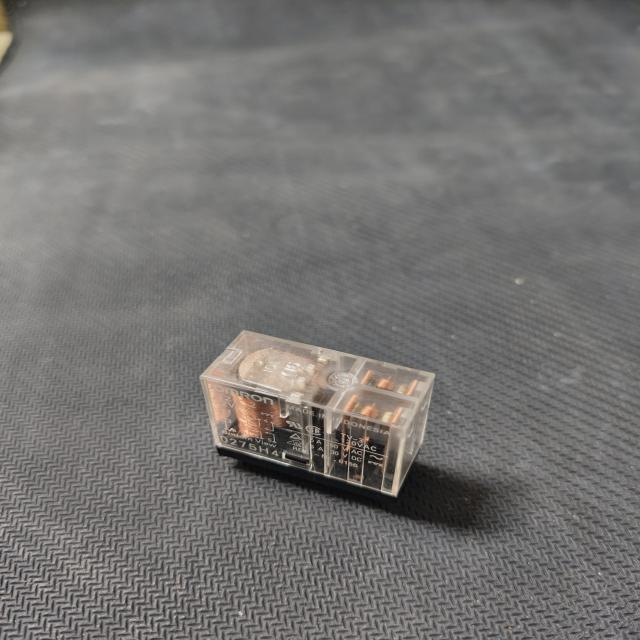relay: (187, 304, 441, 512)
